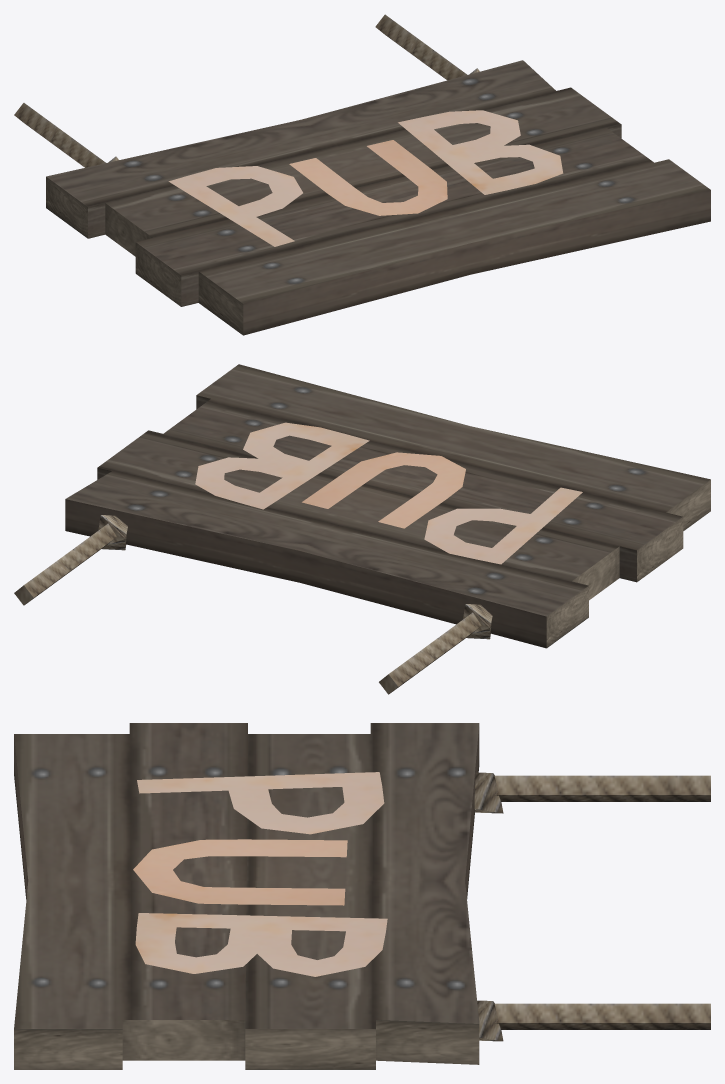
The model's file is Sign_Pub.fbx.
The picture shows the model from 3 angles, top to bottom: view 1: azimuth 30°, elevation 25°; view 2: azimuth 150°, elevation 25°; view 3: azimuth 270°, elevation 25°; orthographic projection. The views are drawn at different scales.
Parts seen in each view (by area): view 1: Sign_Pub; view 2: Sign_Pub; view 3: Sign_Pub.
Boxes of the visible parts, x1=… form: Sign_Pub: x1=14, y1=14, x2=710, y2=335; Sign_Pub: x1=14, y1=364, x2=710, y2=694; Sign_Pub: x1=14, y1=723, x2=710, y2=1069.
Size of the model in its own units: 1.9 by 0.1603 by 1.83.
